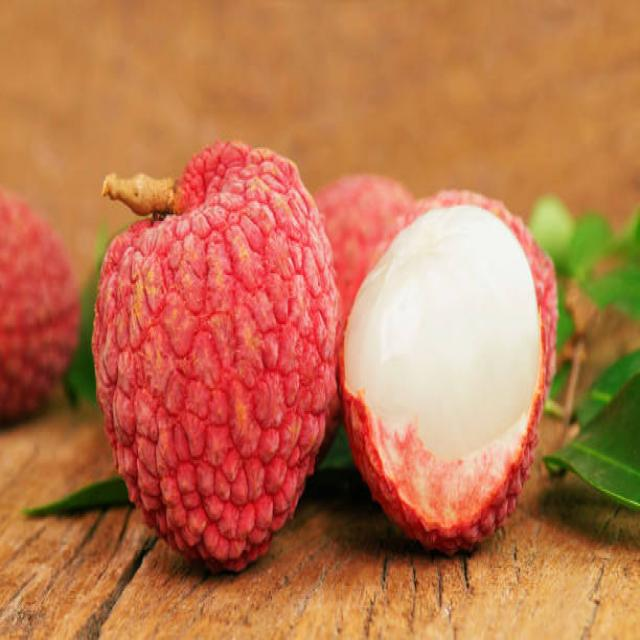lychee: (70, 106, 572, 590)
